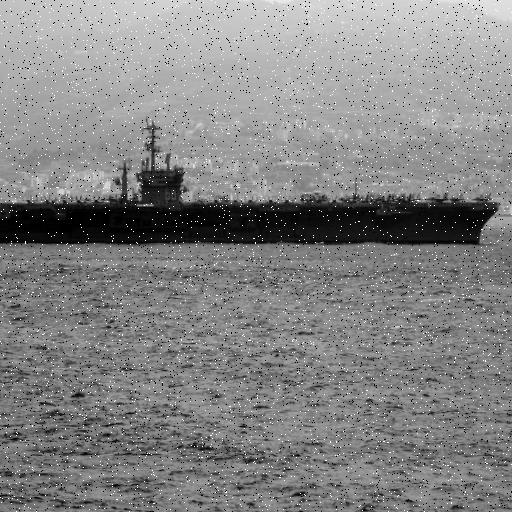Portanaves: (1, 118, 505, 249)
